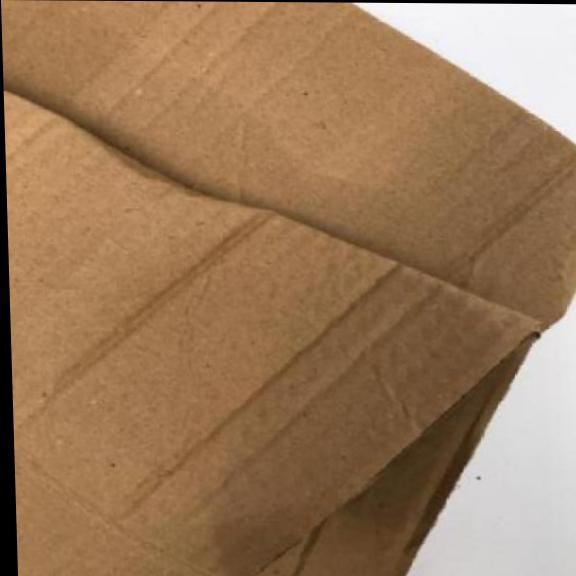Kertas: (1, 0, 575, 575)
